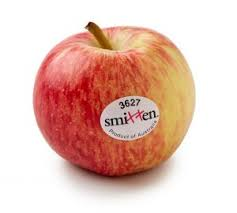apple: (37, 28, 199, 187)
